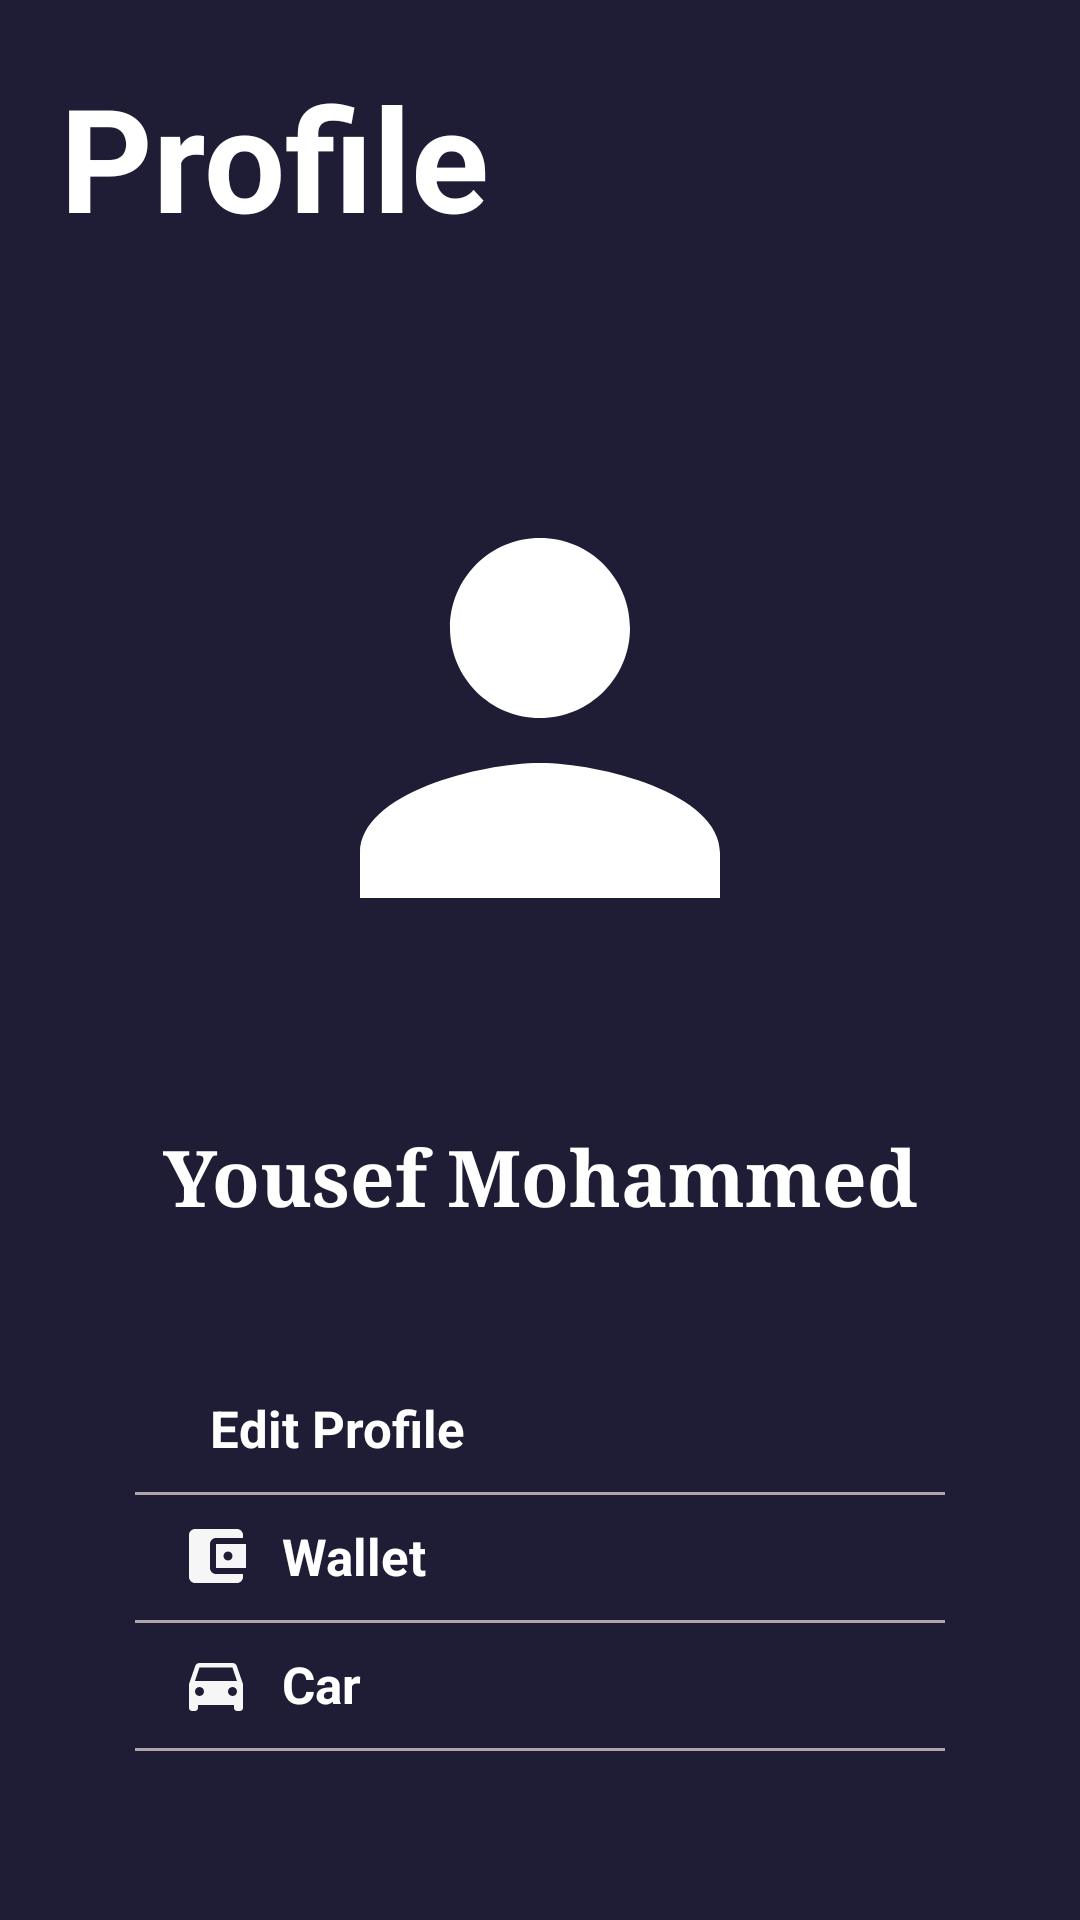

Named icons in this screenshot (1080 x 1920) and their centers, (x,y):
person: (540,718)
